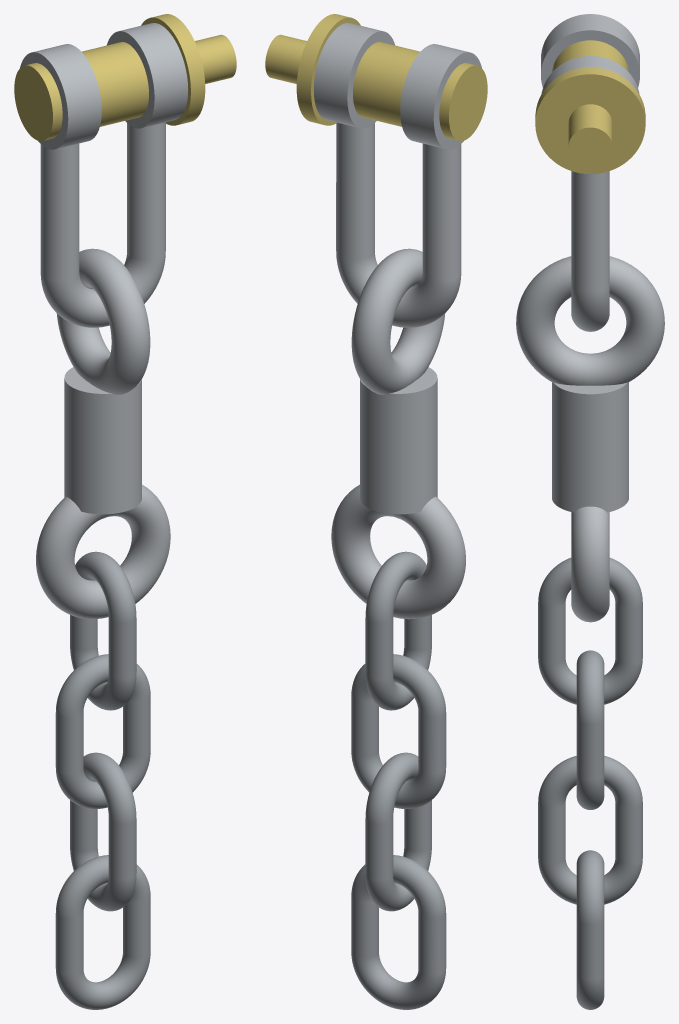
The model's file is step_03.glb.
3 views of the same model, side by side, from view 1: azimuth 30°, elevation 25°; view 2: azimuth 150°, elevation 25°; view 3: azimuth 270°, elevation 25° (orthographic).
Parts seen in each view (by area): view 1: part__swivel, part__bow shackle, part__load pin, part__chain link 4, part__chain link 2, part__chain link 3, part__chain link 1; view 2: part__swivel, part__bow shackle, part__load pin, part__chain link 4, part__chain link 2, part__chain link 3, part__chain link 1; view 3: part__swivel, part__load pin, part__bow shackle, part__chain link 3, part__chain link 1, part__chain link 4, part__chain link 2.
Boxes of the visible parts, <box> form: part__swivel: <box>36,248,170,619</box>; part__bow shackle: <box>20,23,188,327</box>; part__load pin: <box>14,14,236,140</box>; part__chain link 4: <box>55,855,150,1009</box>; part__chain link 2: <box>55,654,150,808</box>; part__chain link 3: <box>70,752,136,911</box>; part__chain link 1: <box>70,551,136,710</box>; part__swivel: <box>331,248,465,619</box>; part__bow shackle: <box>313,23,481,327</box>; part__load pin: <box>265,14,487,140</box>; part__chain link 4: <box>351,855,446,1009</box>; part__chain link 2: <box>351,654,446,808</box>; part__chain link 3: <box>365,752,431,911</box>; part__chain link 1: <box>365,551,431,710</box>; part__swivel: <box>516,256,664,622</box>; part__load pin: <box>535,40,645,173</box>; part__bow shackle: <box>541,14,639,331</box>; part__chain link 3: <box>538,756,642,904</box>; part__chain link 1: <box>538,557,642,704</box>; part__chain link 4: <box>576,850,604,1009</box>; part__chain link 2: <box>576,650,604,809</box>.
Bounding box in the file's own units: 80 × 387 × 53.98.
